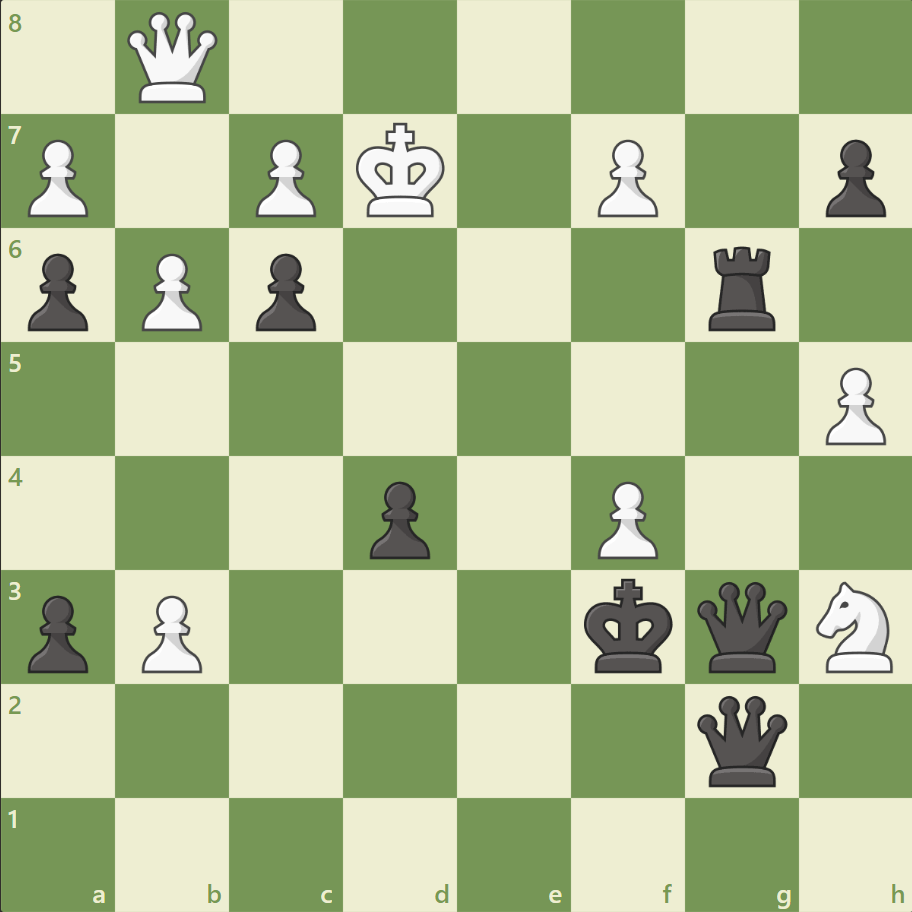K: (351, 117, 451, 225)
N: (806, 575, 903, 677)
P: (20, 132, 95, 223), (247, 132, 322, 223), (133, 246, 208, 337), (133, 586, 208, 677), (588, 132, 662, 223), (815, 359, 889, 450), (588, 473, 662, 564)
Q: (124, 9, 223, 108)
k: (579, 571, 679, 679)
p: (20, 246, 95, 337), (247, 246, 322, 337), (20, 586, 95, 677), (815, 132, 889, 223), (361, 473, 435, 564)
q: (691, 576, 790, 676), (691, 690, 790, 789)
r: (700, 239, 783, 336)
